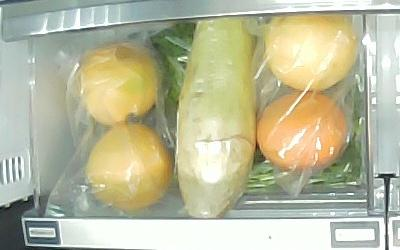grapefruit_vinyl: (86, 123, 174, 209), (257, 92, 347, 170), (266, 14, 356, 90), (81, 42, 159, 125)
